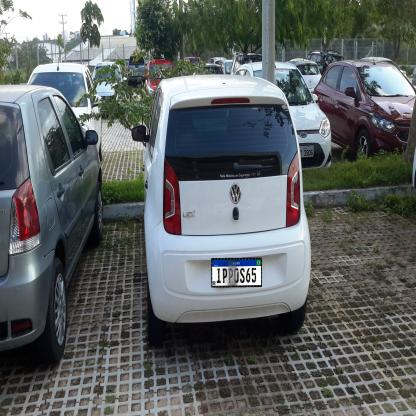PlacaM: (211, 258, 262, 288)
